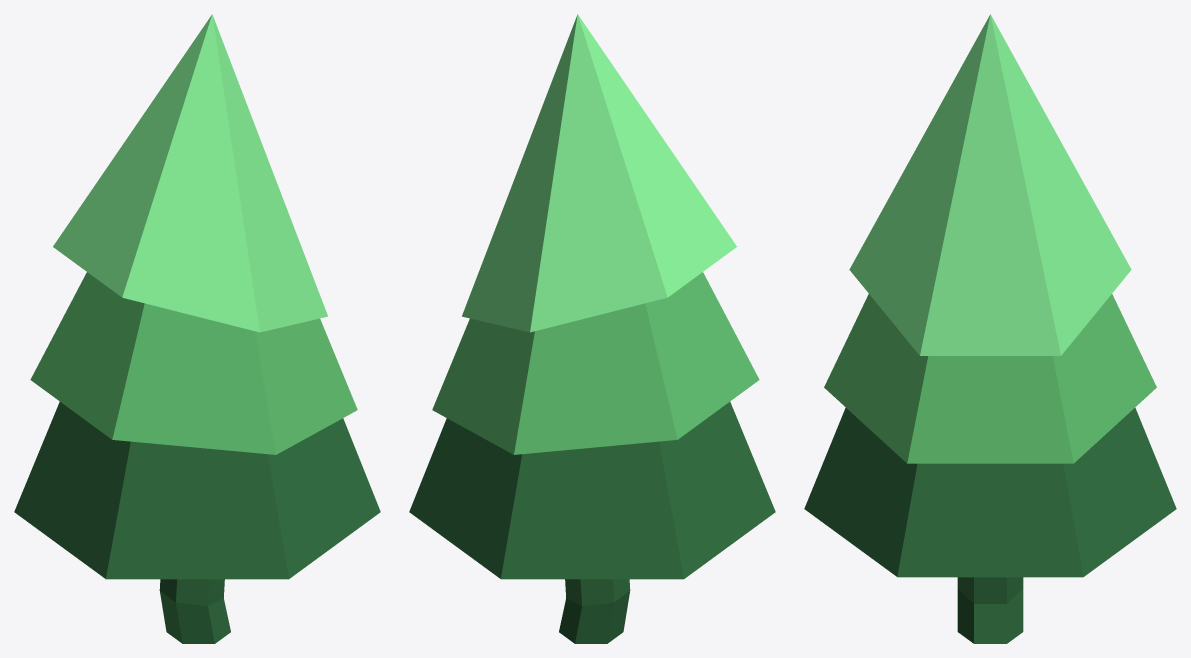
Rendered from Tree.fbx.
3 renders of one model, left to right at view 1: azimuth 30°, elevation 25°; view 2: azimuth 150°, elevation 25°; view 3: azimuth 270°, elevation 25°, orthographic.
Visible parts, largest first — view 1: Tree_Type1_04_mesh; view 2: Tree_Type1_04_mesh; view 3: Tree_Type1_04_mesh.
Boxes of the visible parts, bbox=[...] form: Tree_Type1_04_mesh: bbox=[14, 14, 380, 643]; Tree_Type1_04_mesh: bbox=[409, 14, 775, 643]; Tree_Type1_04_mesh: bbox=[804, 14, 1176, 643].
Size of the model in its own units: 133 by 284 by 153.
1 material, 1 textured.
